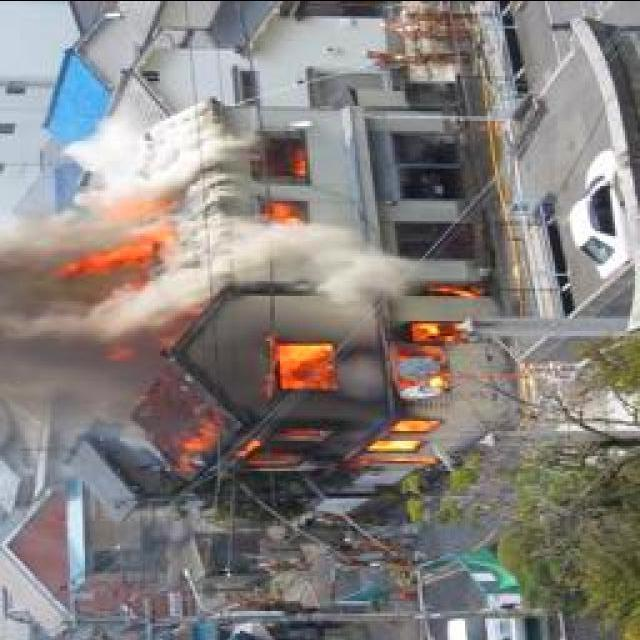Fire: (158, 316, 476, 476), (64, 194, 178, 277), (274, 138, 312, 222)
